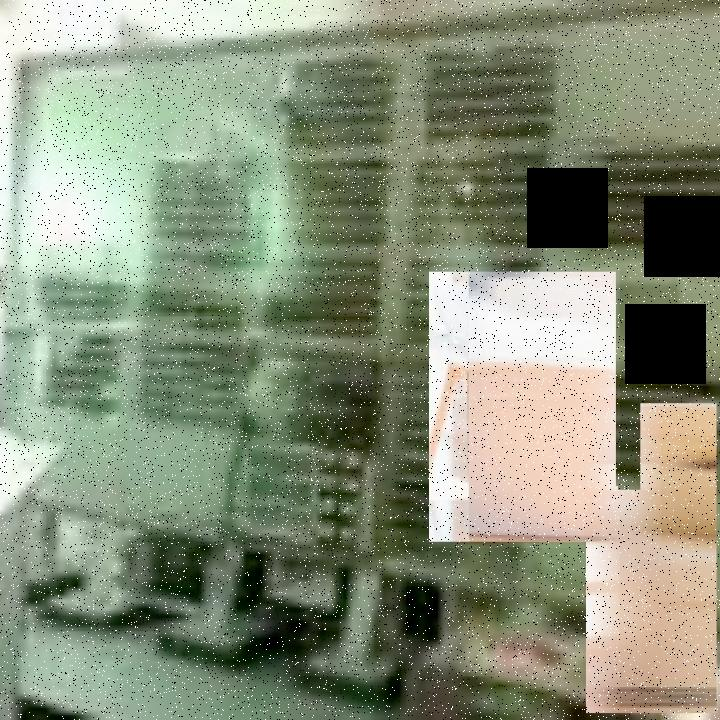box: (430, 267, 622, 548), (585, 487, 718, 718), (640, 402, 719, 552)
